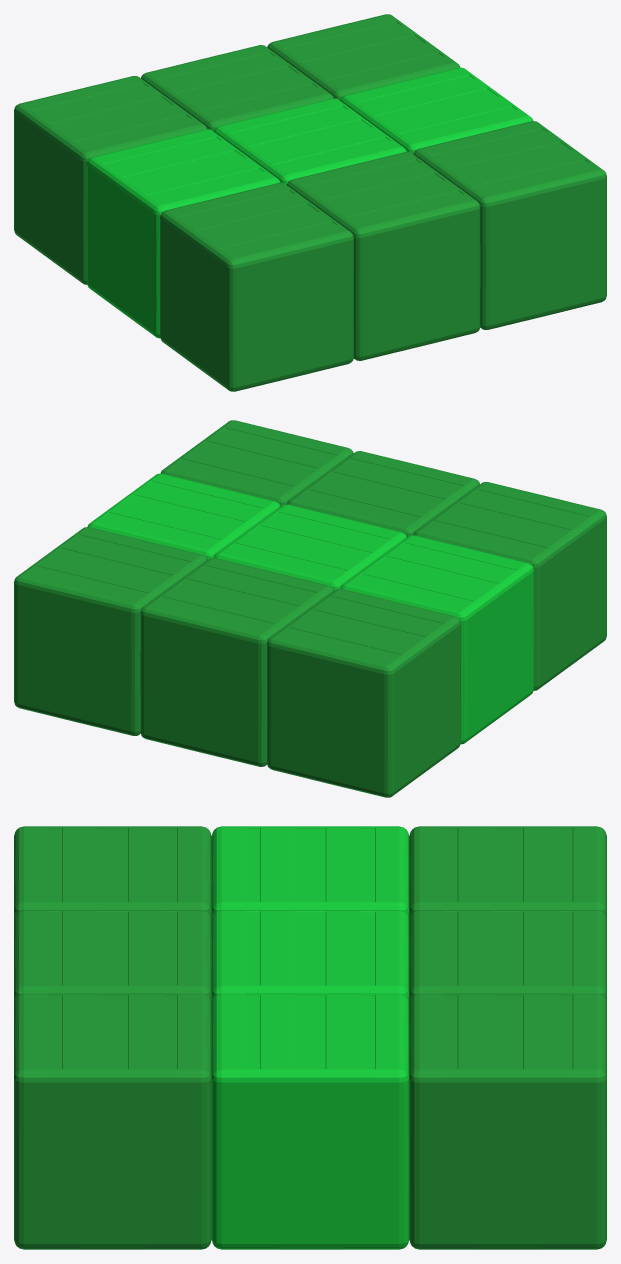
The picture shows the model from 3 angles, top to bottom: view 1: azimuth 30°, elevation 25°; view 2: azimuth 150°, elevation 25°; view 3: azimuth 270°, elevation 25°; orthographic projection. The views are drawn at different scales.
Parts seen in each view (by area): view 1: Cube.001, Cube, Cube.002; view 2: Cube.002, Cube, Cube.001; view 3: Cube, Cube.001, Cube.002.
Part boxes in pixels (bbox=[...]): Cube.001: bbox=[160, 121, 606, 391]; Cube: bbox=[87, 67, 533, 338]; Cube.002: bbox=[14, 14, 460, 284]; Cube.002: bbox=[14, 527, 460, 797]; Cube: bbox=[87, 473, 533, 744]; Cube.001: bbox=[160, 420, 606, 690]; Cube: bbox=[211, 826, 409, 1249]; Cube.001: bbox=[14, 826, 211, 1249]; Cube.002: bbox=[409, 826, 606, 1249].
Size of the model in its own units: 1200 by 400 by 1200.
